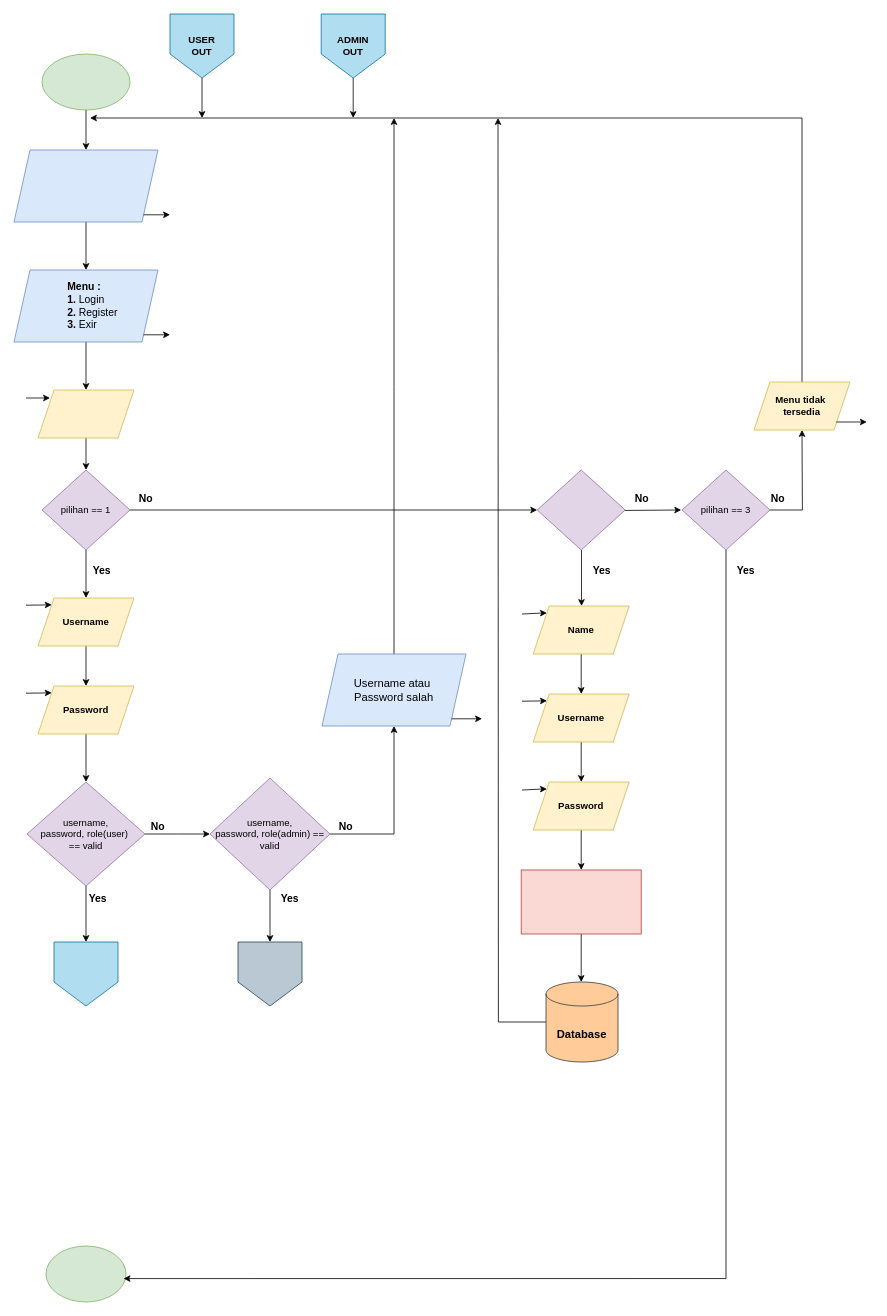
This 887x1316 diagram has some shape labels left out. The box of each missing label's shape, as (x1, y1, x2, y2) in pixels:
ADMIN: (237, 941, 302, 1006)
end: (45, 1245, 126, 1302)
Pilih menu :: (37, 389, 134, 438)
pilihan == 2: (536, 469, 625, 550)
Selamat Datang di Servis Motor Putra: (13, 149, 158, 222)
start: (41, 53, 130, 110)
Store Name, Username dan Password: (520, 869, 641, 934)
USER: (53, 941, 118, 1006)
